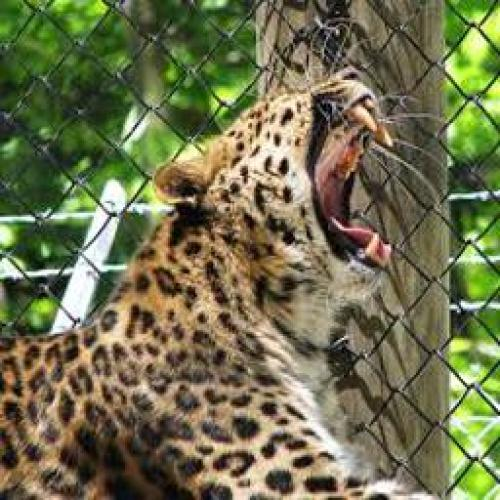amur_leopard-endangered: (0, 67, 405, 500)
